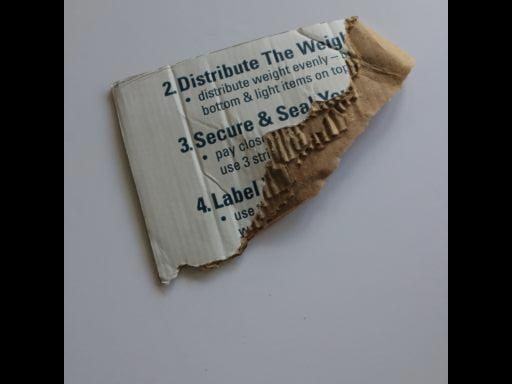cardboard: (110, 14, 416, 288)
